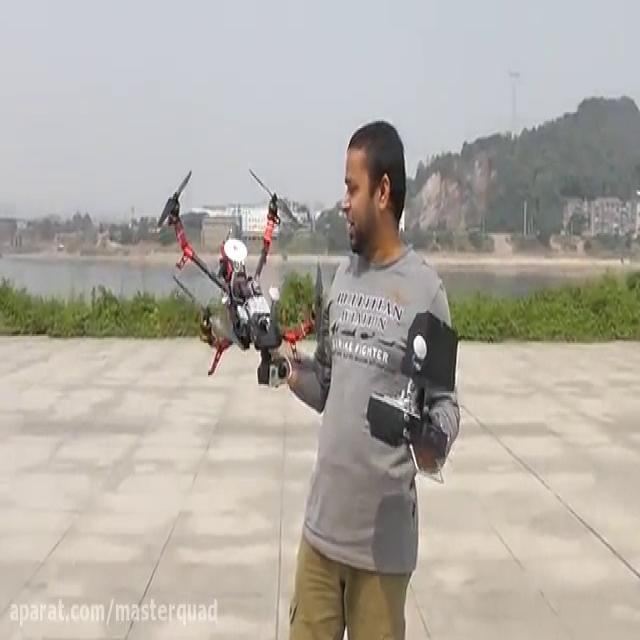drone: (152, 162, 325, 393)
